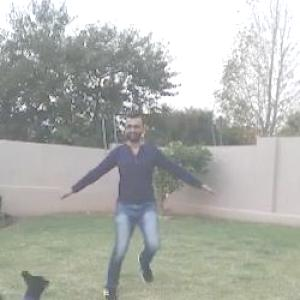land: (59, 83, 234, 299)
